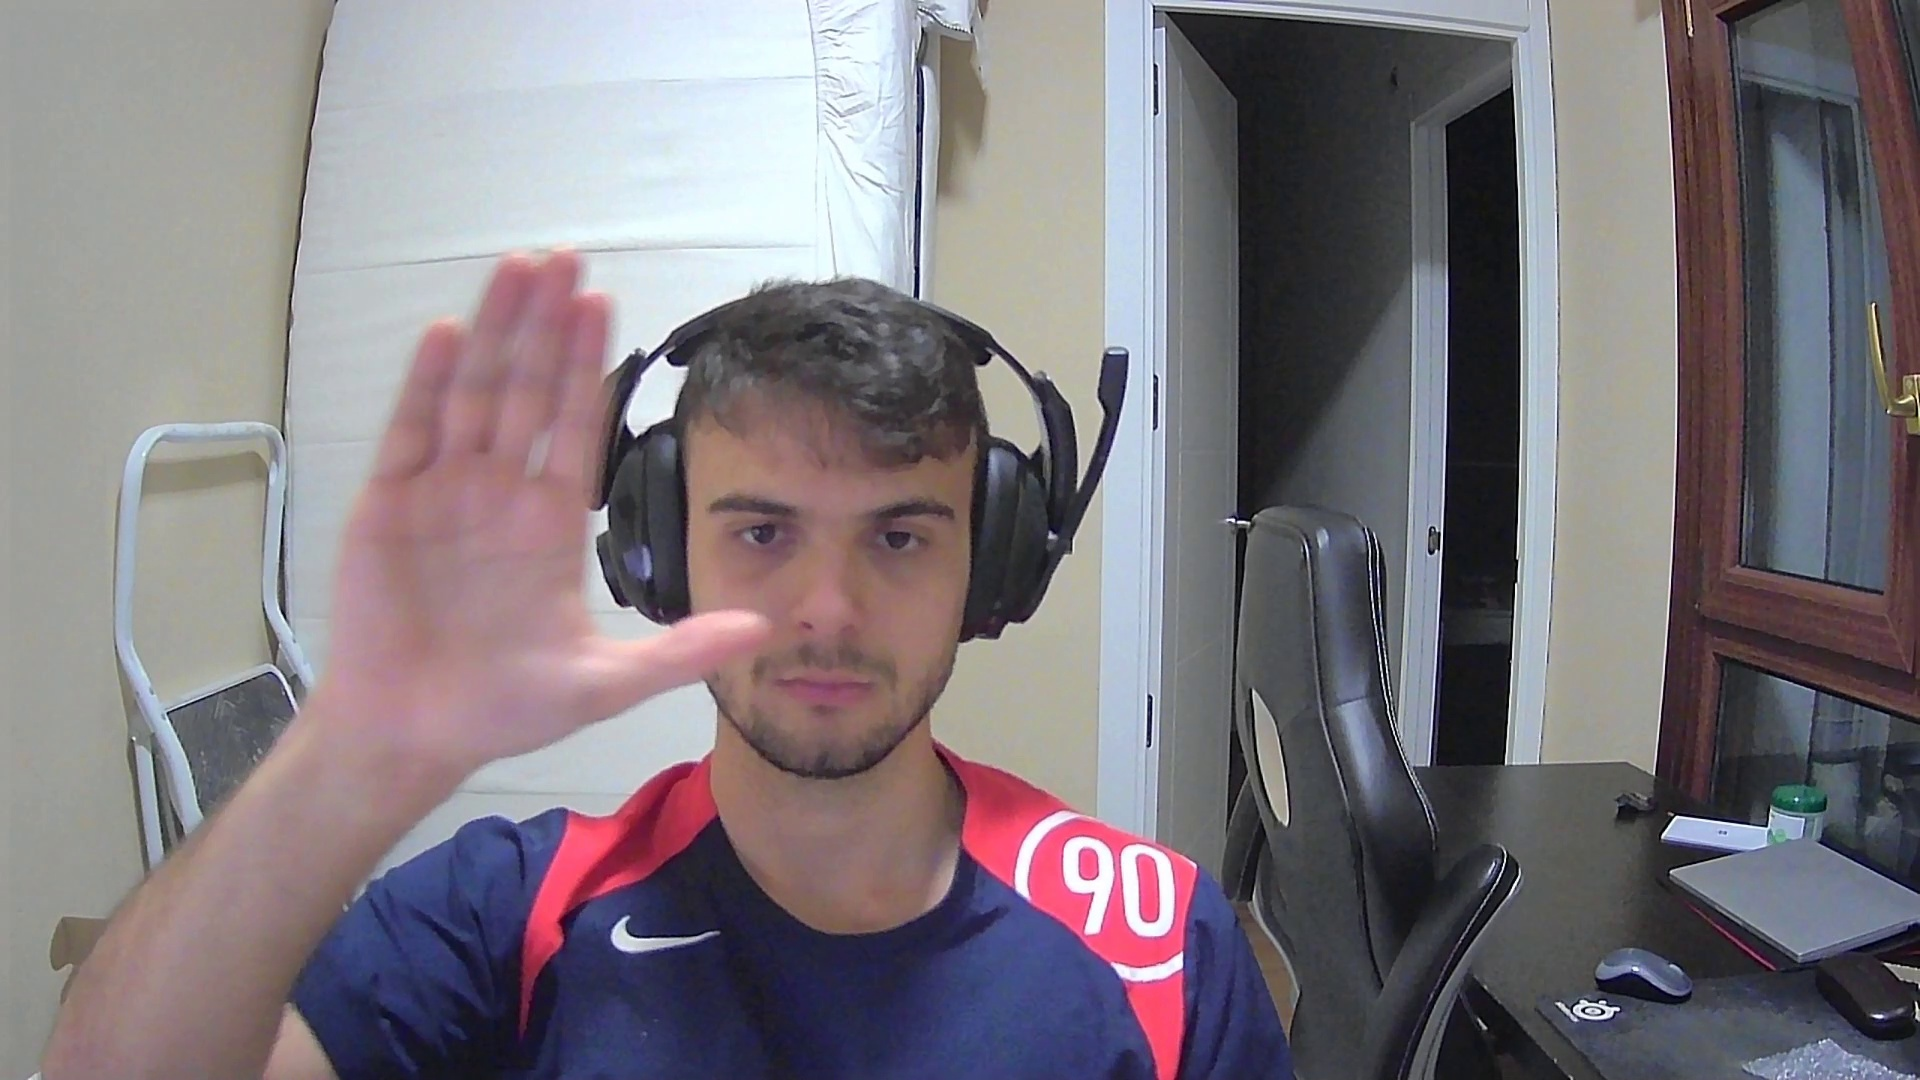Palm: (287, 243, 771, 728)
